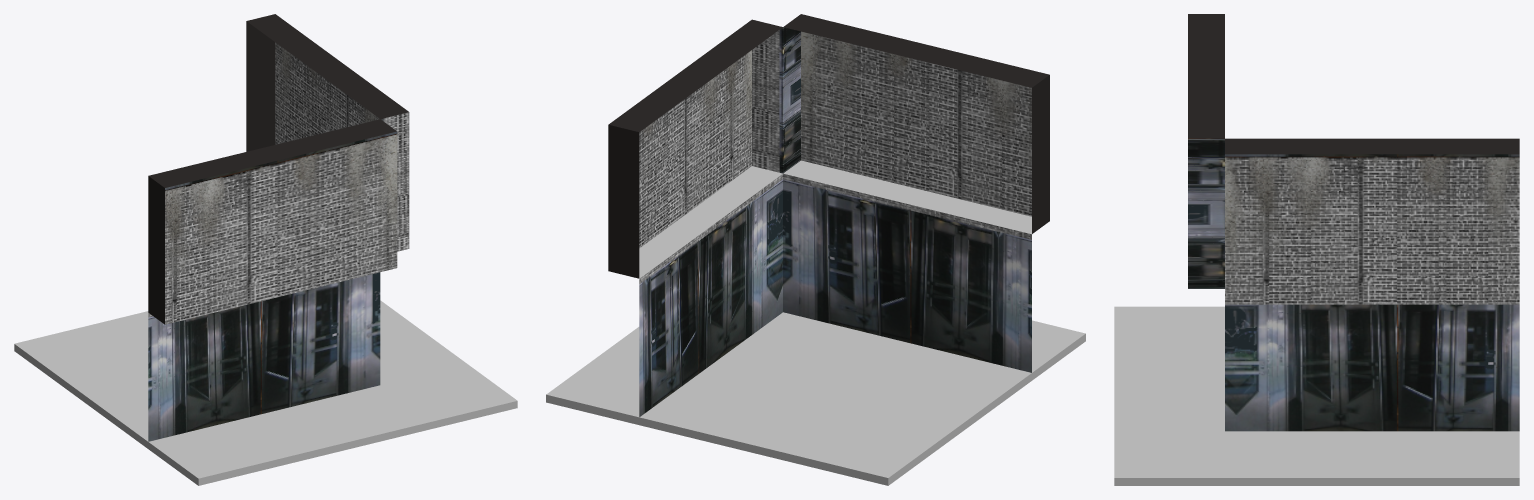
File: BuildingCornerABase.fbx
The picture shows the model from 3 angles, left to right: view 1: azimuth 30°, elevation 25°; view 2: azimuth 150°, elevation 25°; view 3: azimuth 270°, elevation 25°; orthographic projection. The views are drawn at different scales.
Parts seen in each view (by area): view 1: main; view 2: main; view 3: main.
Boxes of the visible parts, box(x1,y1,x2,y2) form: main: box(14, 14, 517, 485); main: box(546, 14, 1085, 485); main: box(1114, 14, 1519, 485).
Size of the model in its own units: 1100 by 900 by 1100.
